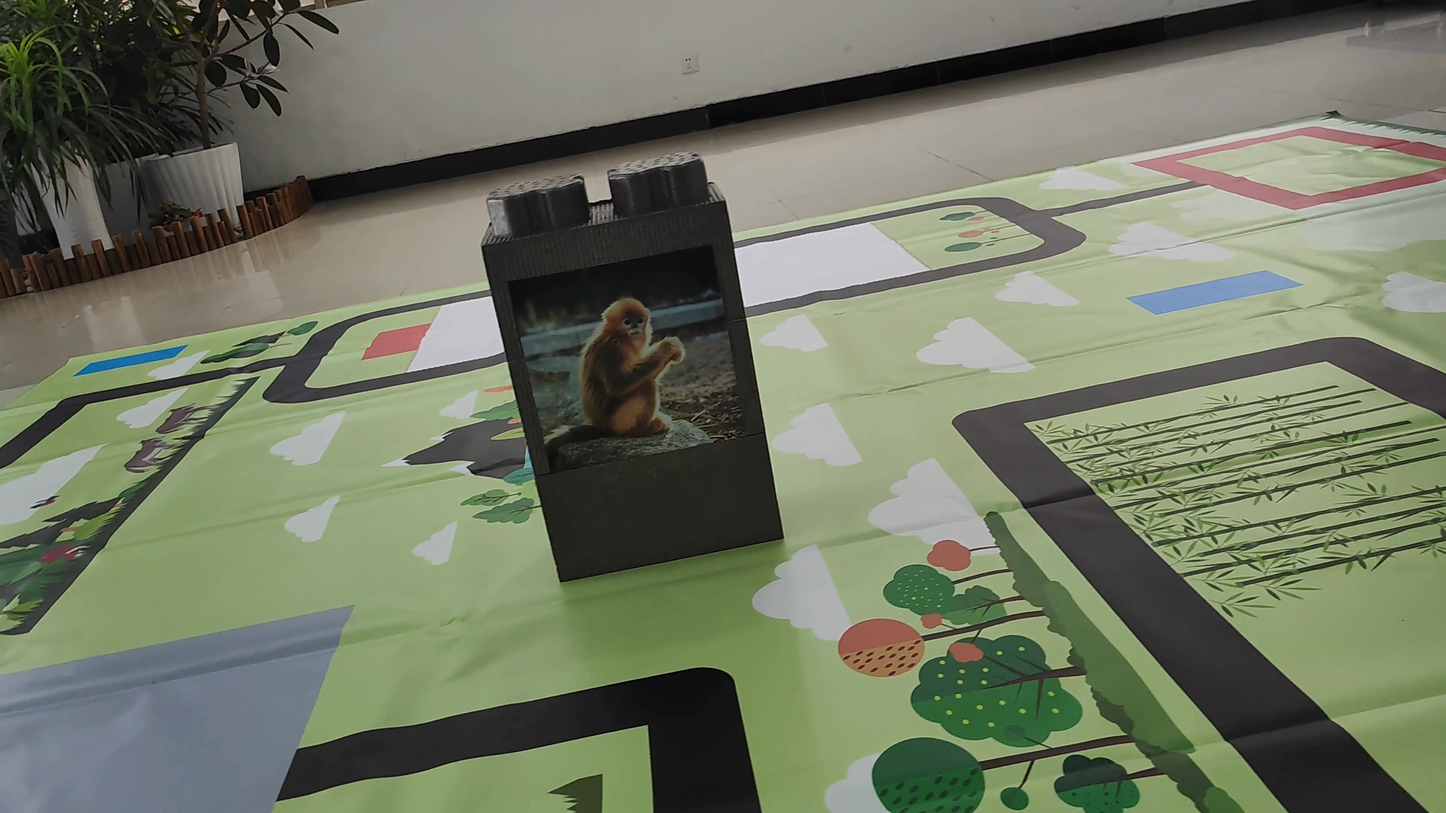monkey: (529, 265, 728, 465)
